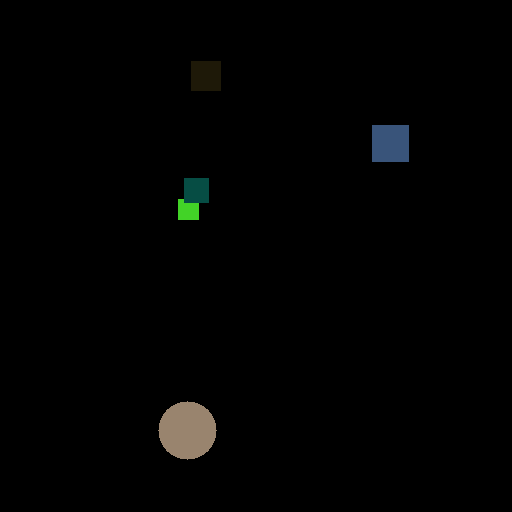circle: (156, 390, 221, 458)
square: (184, 55, 226, 97), (369, 122, 411, 162), (180, 173, 213, 203), (172, 204, 194, 222)
